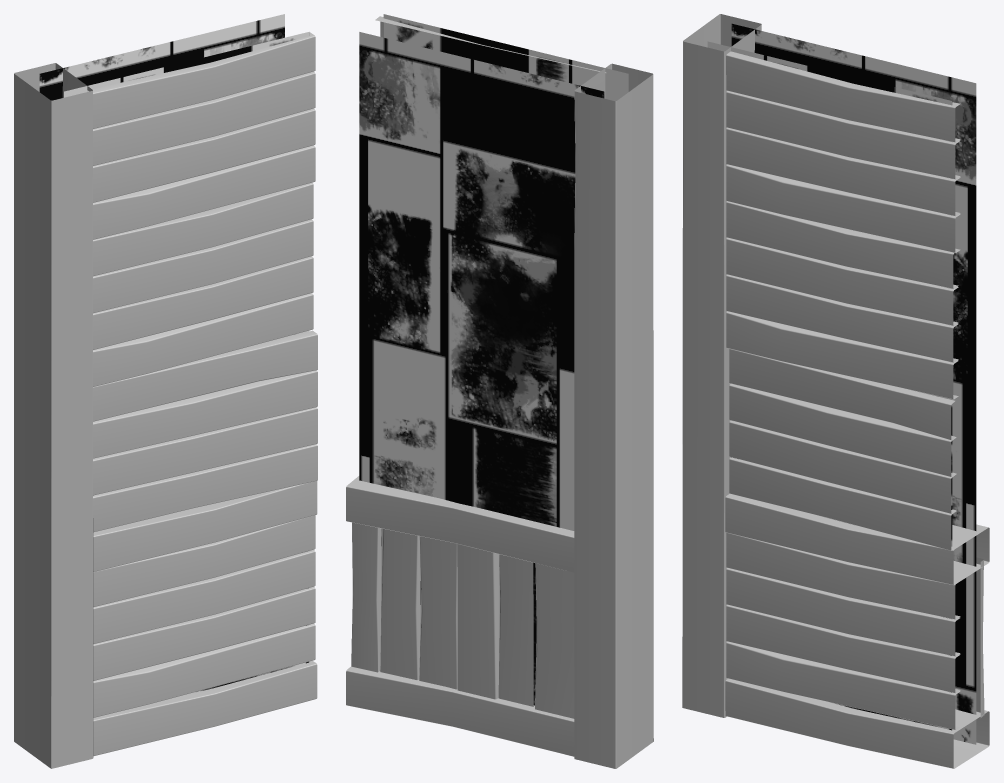
File: SM_wall01_Wall_010.fbx
The picture shows the model from 3 angles, left to right: view 1: azimuth 30°, elevation 25°; view 2: azimuth 150°, elevation 25°; view 3: azimuth 330°, elevation 25°; orthographic projection.
Parts seen in each view (by area): view 1: SM_wall01_Wall_010_LOD0; view 2: SM_wall01_Wall_010_LOD0; view 3: SM_wall01_Wall_010_LOD0.
Part boxes in pixels (x1,y1,x2,y2): SM_wall01_Wall_010_LOD0: (14, 14, 317, 768); SM_wall01_Wall_010_LOD0: (346, 14, 653, 768); SM_wall01_Wall_010_LOD0: (682, 14, 989, 768).
Bounding box in the file's own units: 127 × 31.98 × 303.
